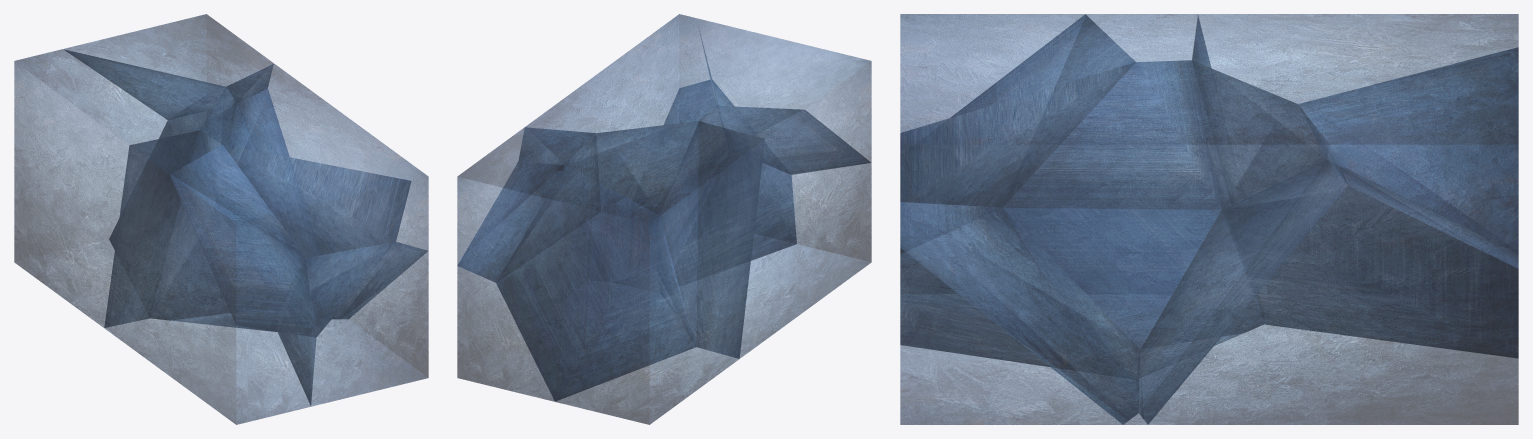
The model's file is icefrac_blong.obj.
The picture shows the model from 3 angles, left to right: view 1: azimuth 30°, elevation 25°; view 2: azimuth 150°, elevation 25°; view 3: azimuth 270°, elevation 25°; orthographic projection. The views are drawn at different scales.
Parts seen in each view (by area): view 1: MemoryCubeB.004_cell.009_Mesh.077, MemoryCubeB.004_cell.011_Mesh.079, MemoryCubeB.004_cell.003_Mesh.003, MemoryCubeB.004_cell.013_Mesh.081, MemoryCubeB.004_cell.010_Mesh.078, MemoryCubeB.004_cell.012_Mesh.080, MemoryCubeB.004_cell.001_Mesh.070, MemoryCubeB.004_cell.006_Mesh.074, MemoryCubeB.004_cell.000_Mesh.069, MemoryCubeB.004_cell.008_Mesh.076, MemoryCubeB.004_cell.005_Mesh.073, MemoryCubeB.004_cell.007_Mesh.075 (+1 smaller); view 2: MemoryCubeB.004_cell.011_Mesh.079, MemoryCubeB.004_cell.012_Mesh.080, MemoryCubeB.004_cell.009_Mesh.077, MemoryCubeB.004_cell.002_Mesh.071, MemoryCubeB.004_cell.010_Mesh.078, MemoryCubeB.004_cell.008_Mesh.076, MemoryCubeB.004_cell.003_Mesh.003, MemoryCubeB.004_cell.001_Mesh.070, MemoryCubeB.004_cell.007_Mesh.075, MemoryCubeB.004_cell.004_Mesh.072, MemoryCubeB.004_cell.000_Mesh.069, MemoryCubeB.004_cell.013_Mesh.081 (+1 smaller); view 3: MemoryCubeB.004_cell.001_Mesh.070, MemoryCubeB.004_cell.000_Mesh.069, MemoryCubeB.004_cell.004_Mesh.072, MemoryCubeB.004_cell.002_Mesh.071, MemoryCubeB.004_cell.012_Mesh.080, MemoryCubeB.004_cell.008_Mesh.076, MemoryCubeB.004_cell.009_Mesh.077, MemoryCubeB.004_cell.005_Mesh.073, MemoryCubeB.004_cell.007_Mesh.075, MemoryCubeB.004_cell.013_Mesh.081, MemoryCubeB.004_cell.011_Mesh.079, MemoryCubeB.004_cell.006_Mesh.074 (+2 smaller).
Boxes of the visible parts, <box> form: MemoryCubeB.004_cell.009_Mesh.077: <box>104,130,315,404</box>; MemoryCubeB.004_cell.011_Mesh.079: <box>14,49,224,327</box>; MemoryCubeB.004_cell.003_Mesh.003: <box>170,145,410,336</box>; MemoryCubeB.004_cell.013_Mesh.081: <box>170,145,410,336</box>; MemoryCubeB.004_cell.010_Mesh.078: <box>104,131,315,424</box>; MemoryCubeB.004_cell.012_Mesh.080: <box>65,50,236,321</box>; MemoryCubeB.004_cell.001_Mesh.070: <box>201,64,428,250</box>; MemoryCubeB.004_cell.006_Mesh.074: <box>311,242,428,406</box>; MemoryCubeB.004_cell.000_Mesh.069: <box>200,64,426,318</box>; MemoryCubeB.004_cell.008_Mesh.076: <box>64,14,273,86</box>; MemoryCubeB.004_cell.005_Mesh.073: <box>278,242,427,403</box>; MemoryCubeB.004_cell.007_Mesh.075: <box>67,50,269,119</box>; MemoryCubeB.004_cell.011_Mesh.079: <box>497,121,763,424</box>; MemoryCubeB.004_cell.012_Mesh.080: <box>496,121,764,401</box>; MemoryCubeB.004_cell.009_Mesh.077: <box>659,106,870,357</box>; MemoryCubeB.004_cell.002_Mesh.071: <box>460,162,695,400</box>; MemoryCubeB.004_cell.010_Mesh.078: <box>700,106,871,358</box>; MemoryCubeB.004_cell.008_Mesh.076: <box>457,127,600,281</box>; MemoryCubeB.004_cell.003_Mesh.003: <box>697,18,871,162</box>; MemoryCubeB.004_cell.001_Mesh.070: <box>525,14,715,132</box>; MemoryCubeB.004_cell.007_Mesh.075: <box>458,128,600,282</box>; MemoryCubeB.004_cell.004_Mesh.072: <box>457,253,554,401</box>; MemoryCubeB.004_cell.000_Mesh.069: <box>521,43,721,214</box>; MemoryCubeB.004_cell.013_Mesh.081: <box>701,38,870,173</box>; MemoryCubeB.004_cell.001_Mesh.070: <box>900,60,1347,424</box>; MemoryCubeB.004_cell.000_Mesh.069: <box>900,60,1347,424</box>; MemoryCubeB.004_cell.004_Mesh.072: <box>1148,186,1518,424</box>; MemoryCubeB.004_cell.002_Mesh.071: <box>1139,160,1518,424</box>; MemoryCubeB.004_cell.012_Mesh.080: <box>1192,16,1518,357</box>; MemoryCubeB.004_cell.008_Mesh.076: <box>1298,48,1518,267</box>; MemoryCubeB.004_cell.009_Mesh.077: <box>901,14,1263,366</box>; MemoryCubeB.004_cell.005_Mesh.073: <box>900,202,1139,424</box>; MemoryCubeB.004_cell.007_Mesh.075: <box>1298,48,1518,267</box>; MemoryCubeB.004_cell.013_Mesh.081: <box>900,14,1135,253</box>; MemoryCubeB.004_cell.011_Mesh.079: <box>1193,14,1518,290</box>; MemoryCubeB.004_cell.006_Mesh.074: <box>900,249,1122,424</box>.
Bounding box in the file's own units: 2 × 2 × 4.
1 material, 1 textured.
